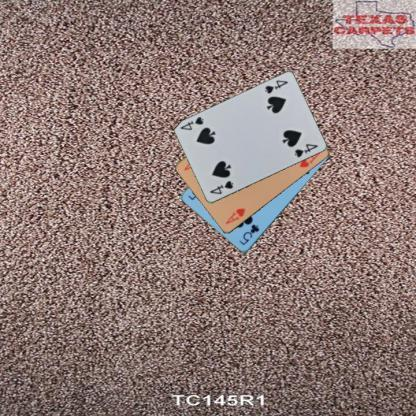4s: (208, 178, 235, 196), (262, 78, 289, 96)
5c: (236, 222, 261, 247)
Ah: (223, 206, 247, 226)
